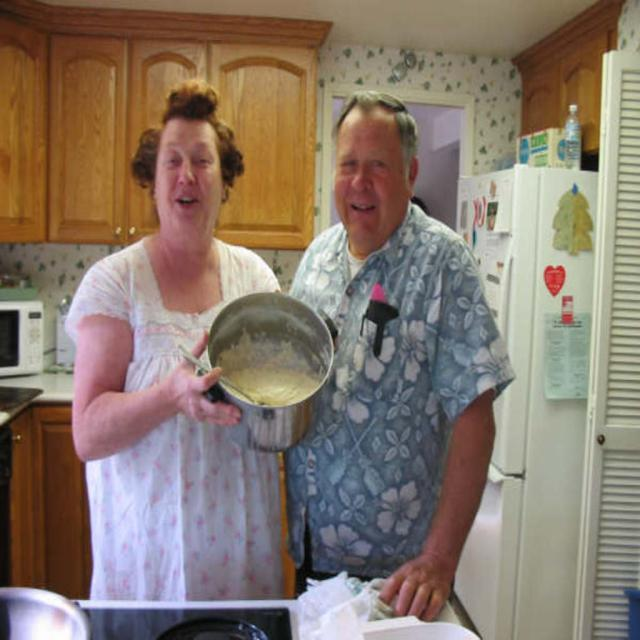no_helmet: (310, 123, 428, 239), (123, 143, 264, 235)
